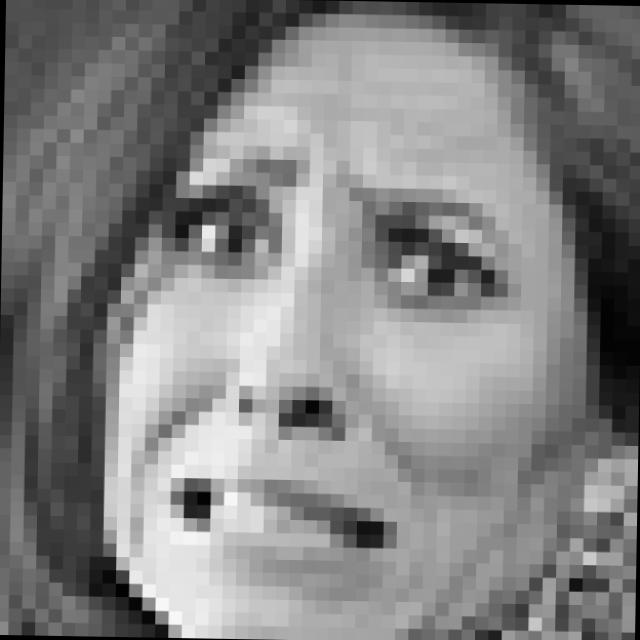fear: (146, 139, 524, 586)
